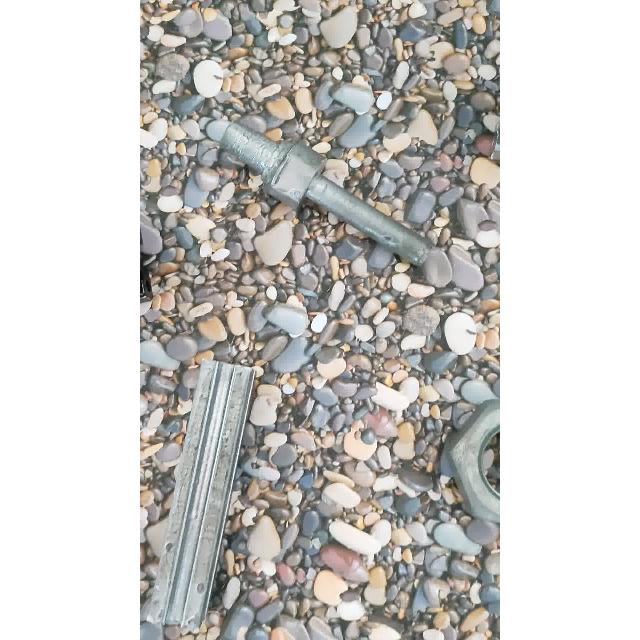Axis2: (216, 118, 434, 274)
F20_20_G: (146, 355, 262, 633)
M30: (440, 395, 500, 527)
